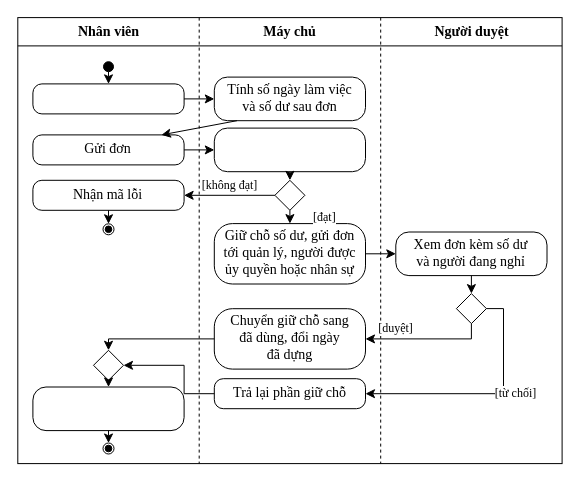
Image size: 581x482. Some labels were removed from this diagram. Here are the shapes that lost their labels. From the top down, the box of each, then its label:
(32, 83, 184, 114): Chọn loại phép và ngày
(213, 127, 366, 172): Kiểm số dư và đơn chồng ngày
(32, 386, 184, 431): Nhận thông báo kết quả
